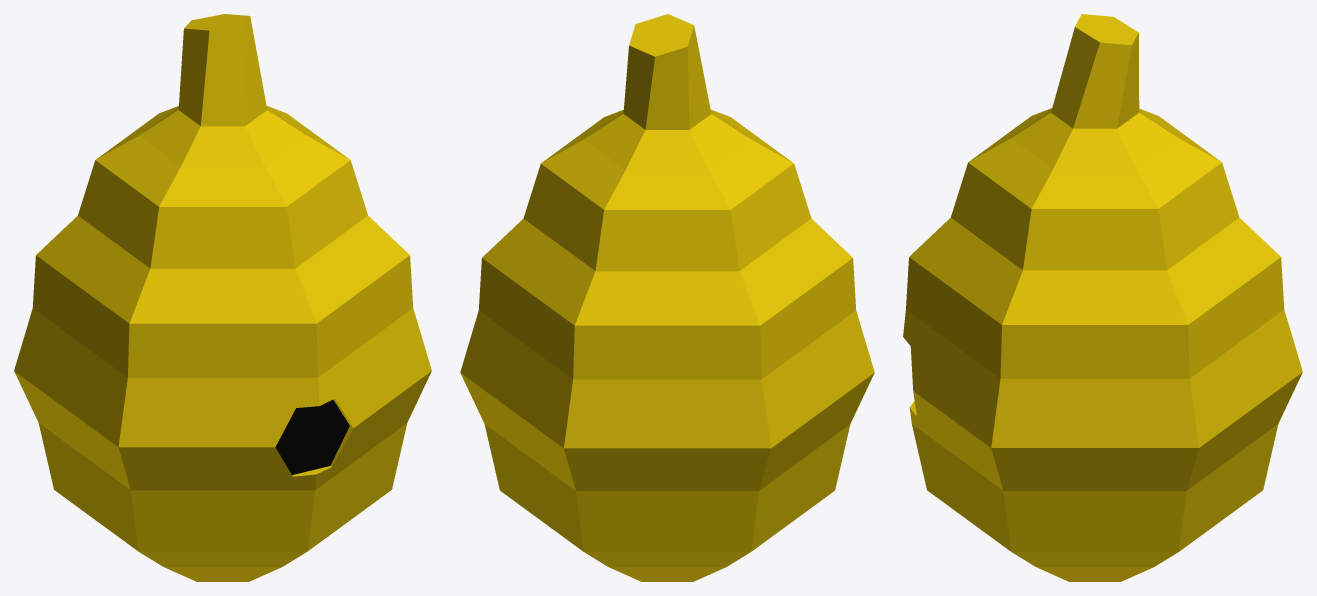
Rendered from Beehive.fbx.
3 views of the same model, side by side, from view 1: azimuth 30°, elevation 25°; view 2: azimuth 150°, elevation 25°; view 3: azimuth 270°, elevation 25° (orthographic).
Visible parts, largest first — view 1: Beehive; view 2: Beehive; view 3: Beehive.
Part boxes in pixels (x1,y1,x2,y2): Beehive: [14, 14, 431, 581]; Beehive: [460, 14, 874, 581]; Beehive: [903, 14, 1302, 581].
Bounding box in the file's own units: 0.5801 × 0.9619 × 0.6445.
